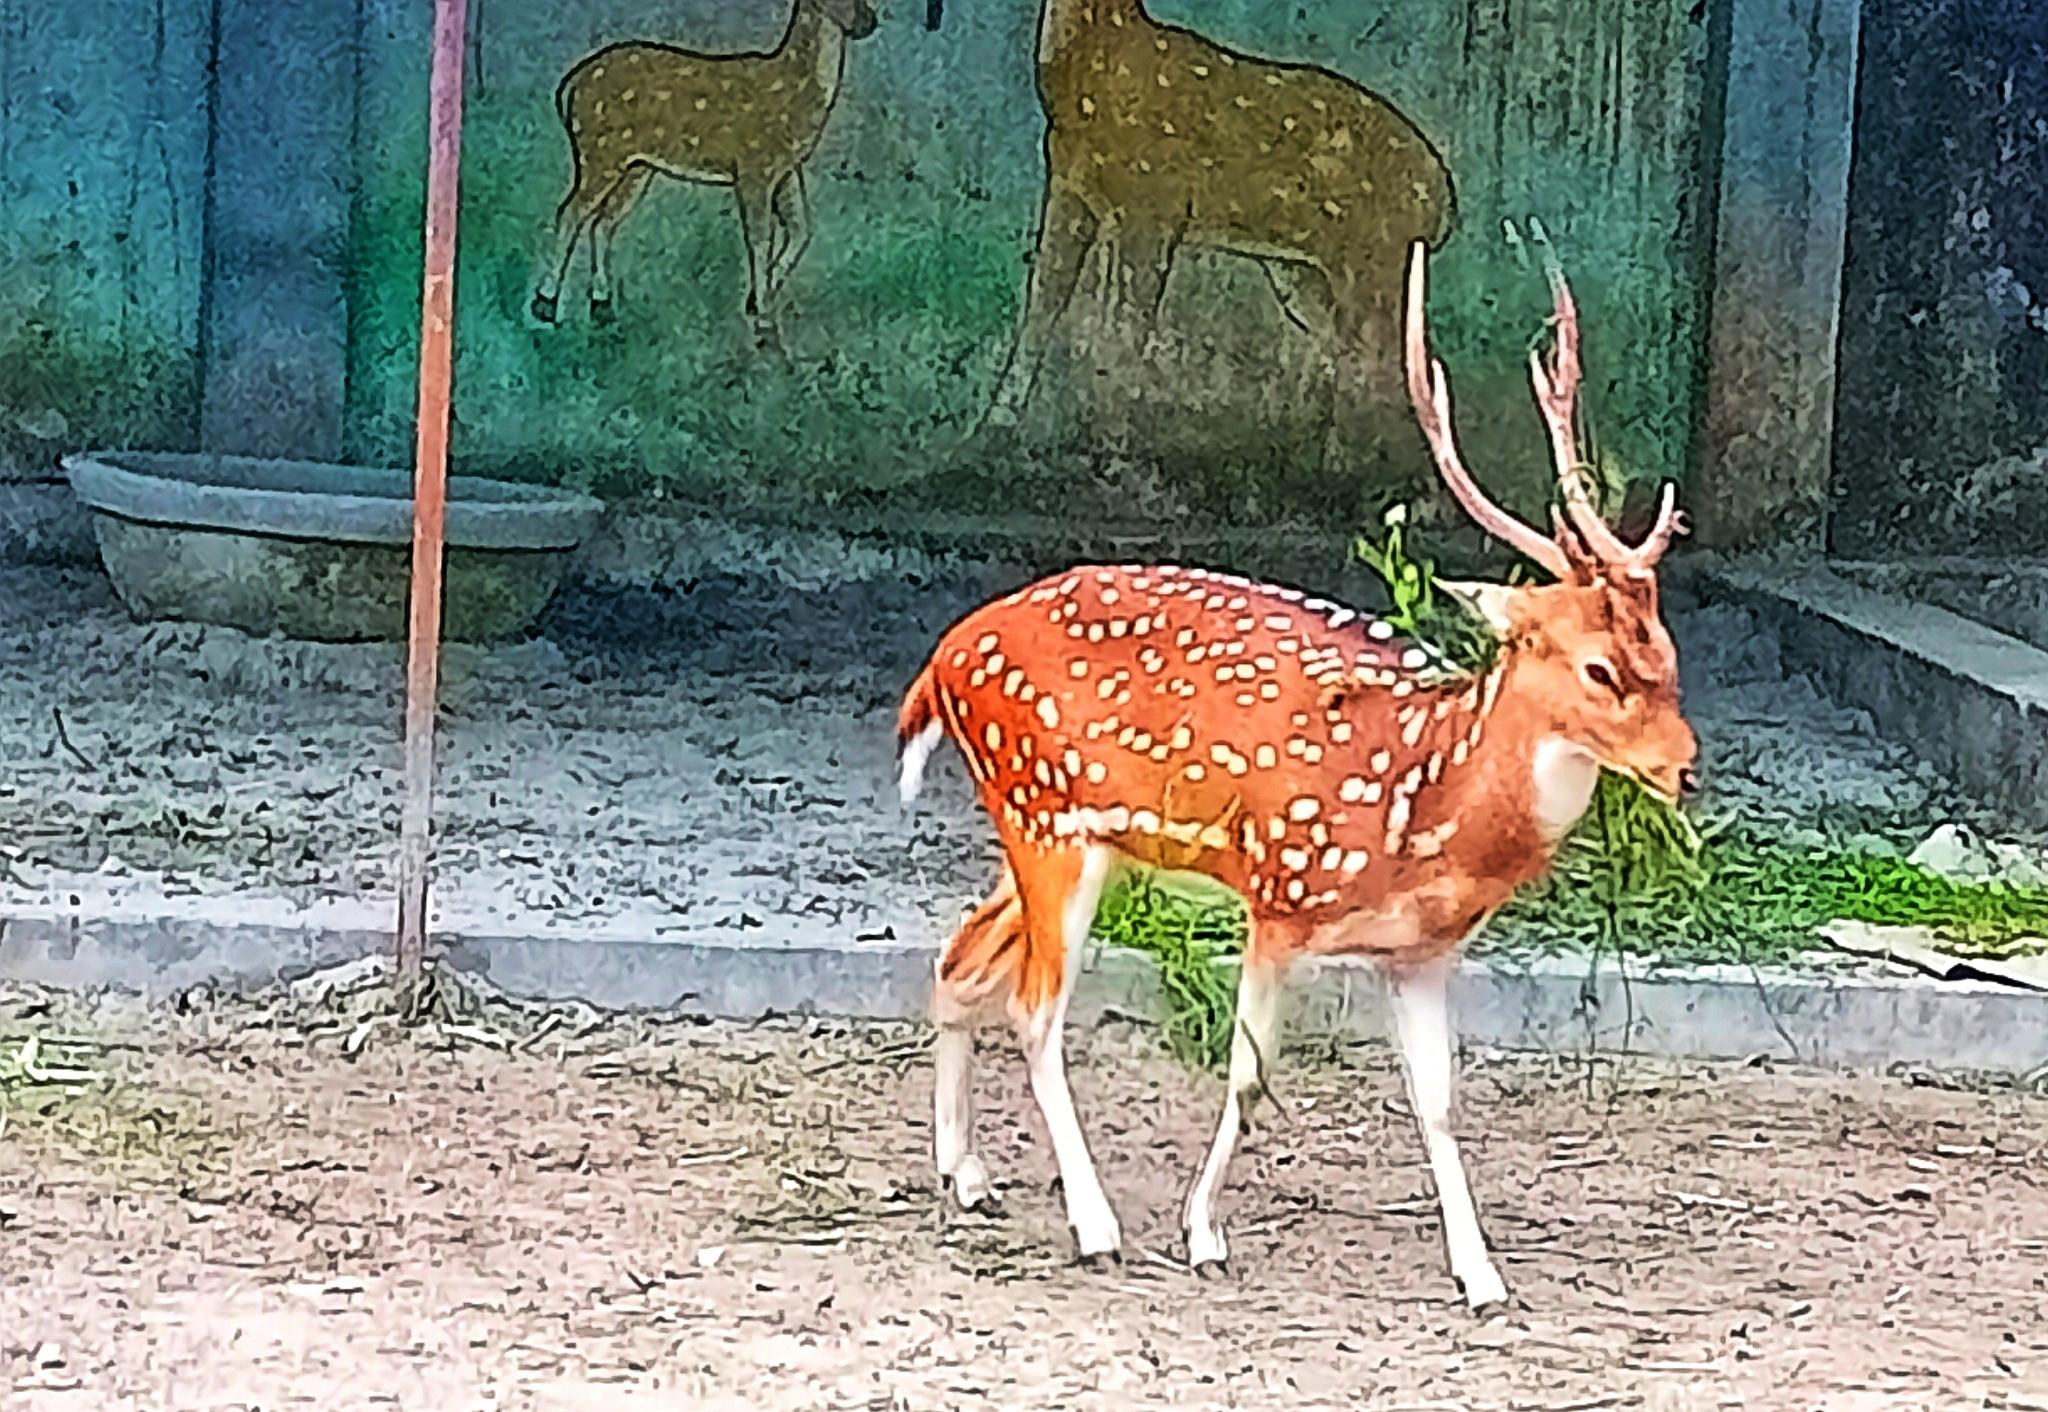Deer: (896, 240, 1696, 1305)
